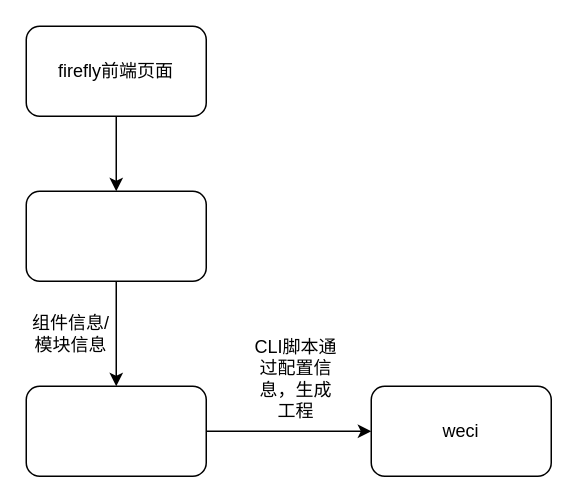
This 578x503 diagram has some shape labels left out. Each missing label, with the box of its shape:
firefly: (25, 190, 206, 281)
构建/流水: (25, 385, 206, 476)
